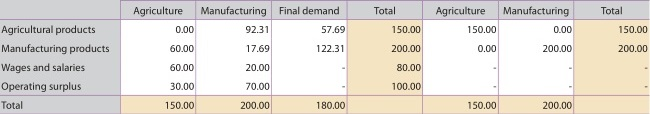column: (1, 1, 109, 113), (201, 1, 270, 114), (504, 1, 572, 114), (279, 1, 345, 114), (133, 1, 194, 114), (435, 1, 496, 113), (374, 1, 421, 113), (601, 1, 648, 113)
row: (1, 43, 650, 55), (2, 6, 650, 18), (2, 24, 650, 36), (1, 81, 650, 92), (1, 100, 650, 110), (1, 63, 649, 73)
